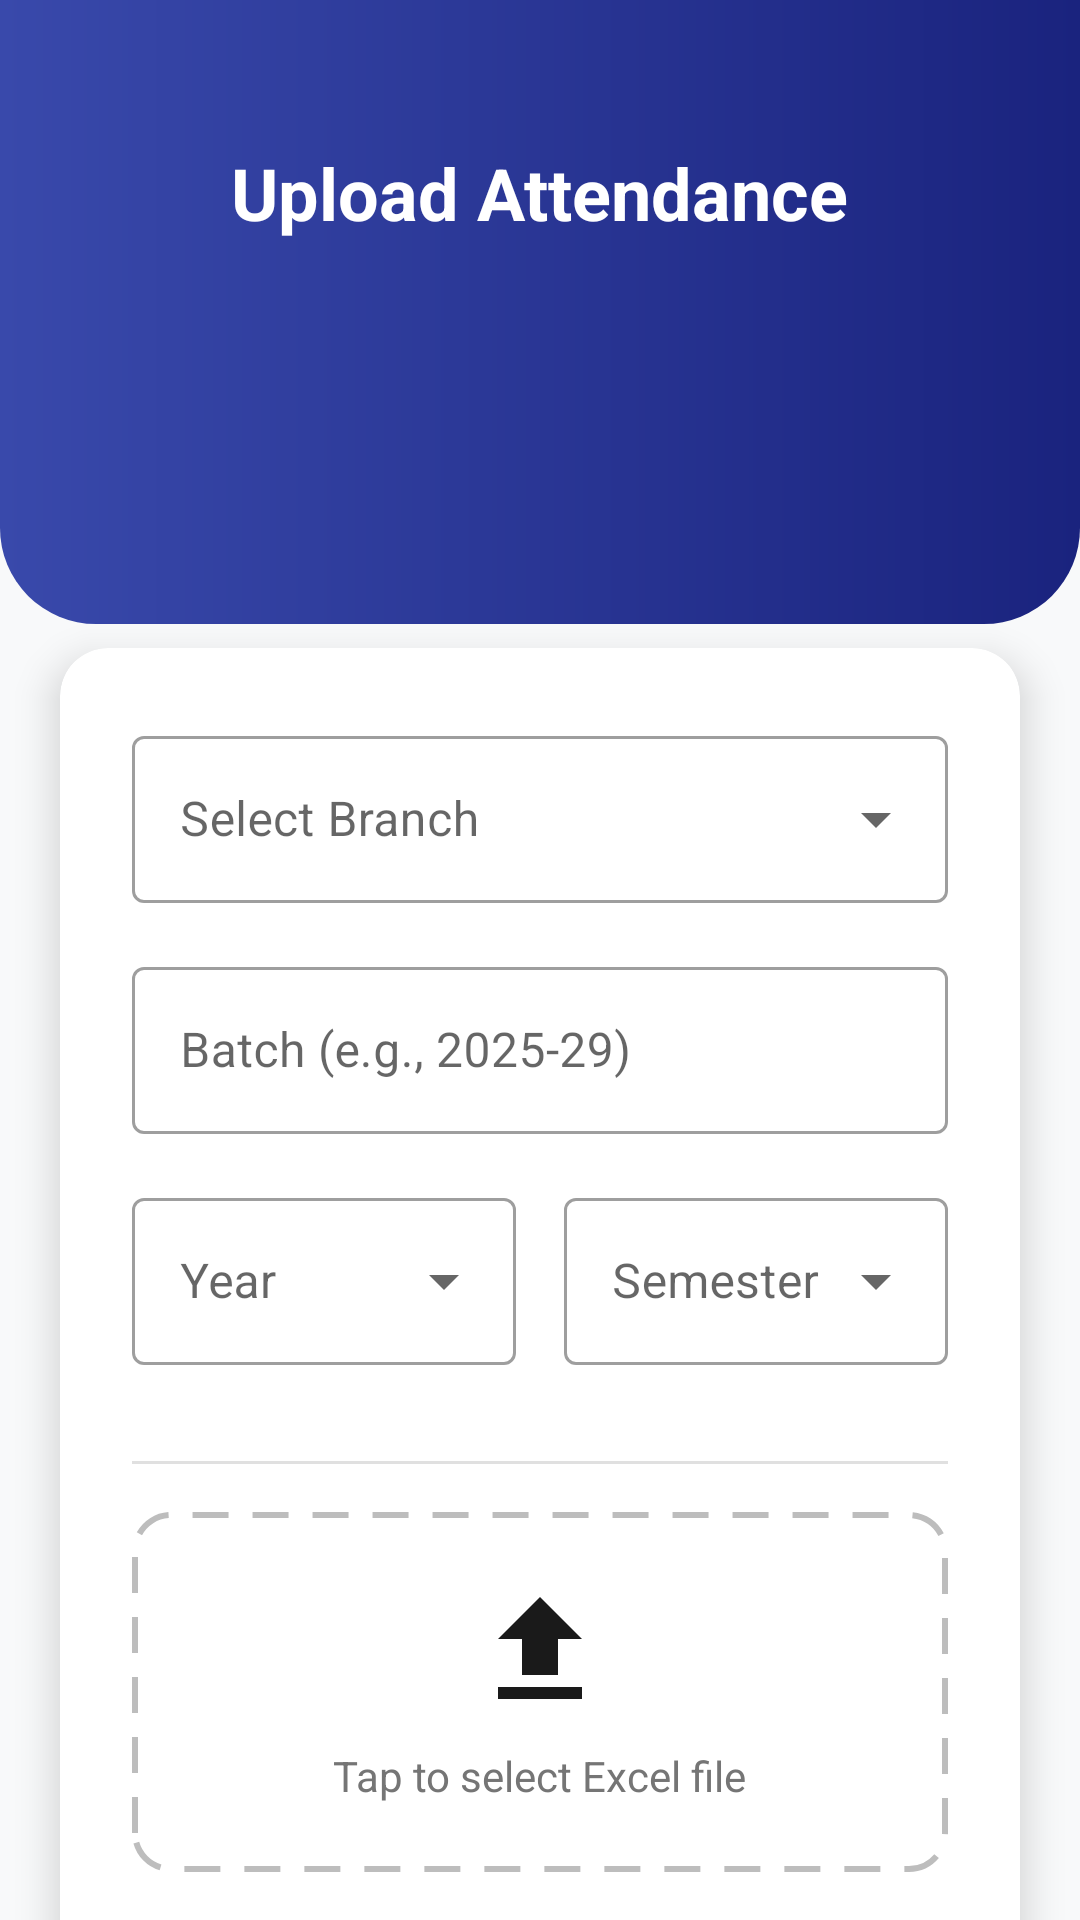

Icon bounding boxes for this 1080 × 1920 phone screenshot, format [x1, y1, x2, y2]:
upload file: [498, 1597, 582, 1699]
